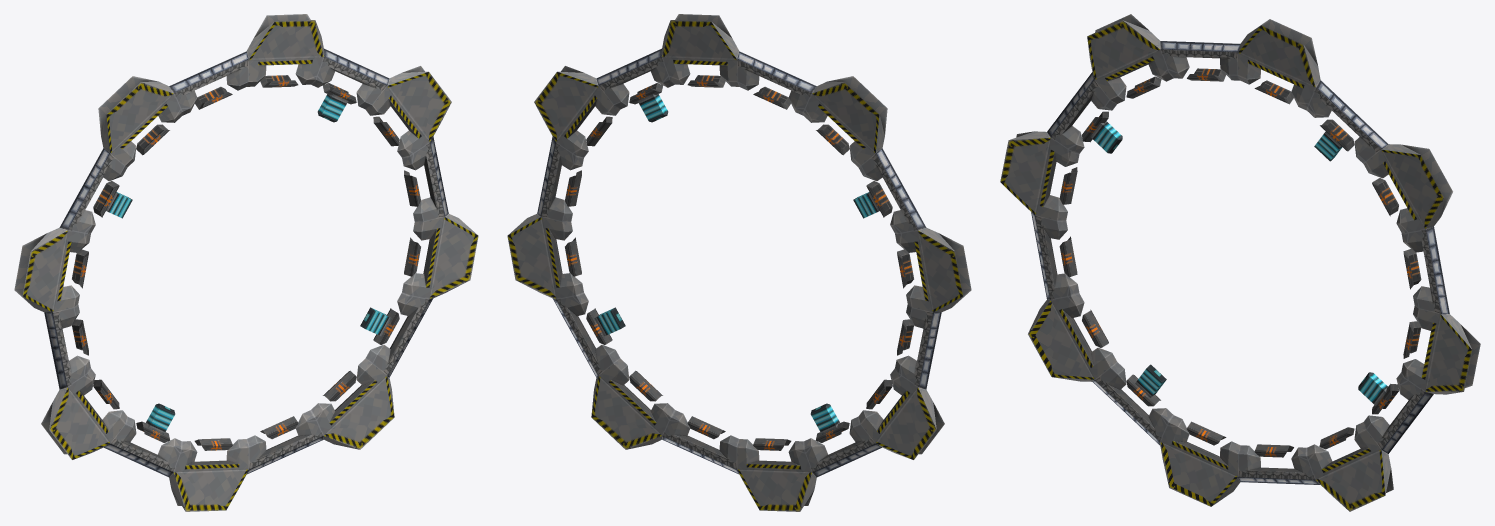
The model's file is ring.FBX.
3 renders of one model, left to right at view 1: azimuth 30°, elevation 25°; view 2: azimuth 150°, elevation 25°; view 3: azimuth 330°, elevation 25°, orthographic. The views are drawn at different scales.
Visible parts, largest first — view 1: Torus01; view 2: Torus01; view 3: Torus01.
Boxes of the visible parts, x1,y1,x2,y2 form: Torus01: [14, 14, 478, 511]; Torus01: [507, 14, 971, 511]; Torus01: [1000, 14, 1480, 511].
Bounding box in the file's own units: 290 × 8.99 × 290.
